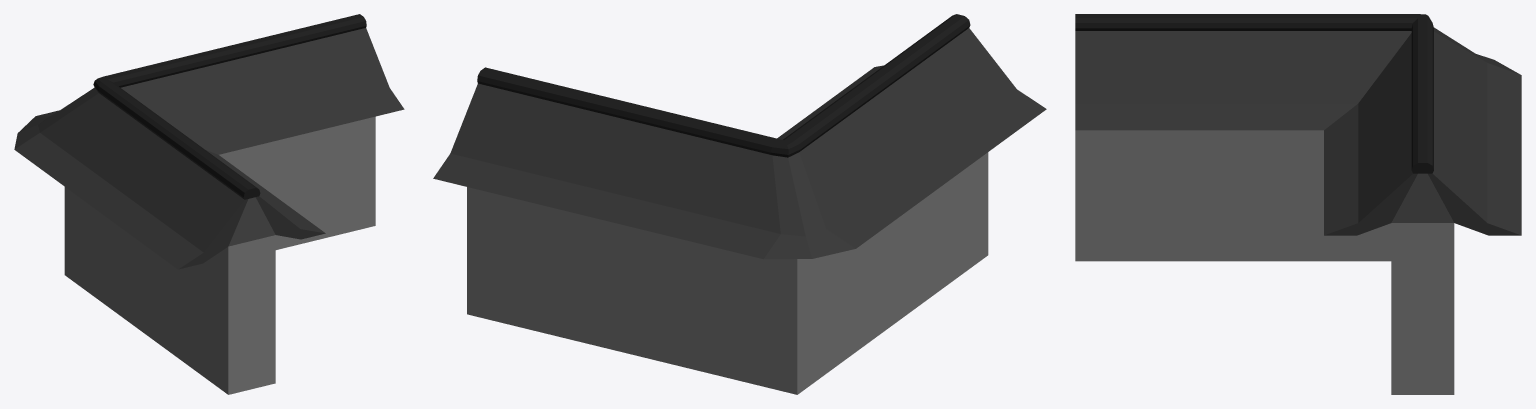
File: TraditionalWallCorner.glb
3 renders of one model, left to right at view 1: azimuth 30°, elevation 25°; view 2: azimuth 150°, elevation 25°; view 3: azimuth 270°, elevation 25°, orthographic. The views are drawn at different scales.
Parts seen in each view (by area): view 1: BuildingA_Wall_Curve; view 2: BuildingA_Wall_Curve; view 3: BuildingA_Wall_Curve.
Part boxes in pixels (x1,y1,x2,y2): BuildingA_Wall_Curve: [14, 14, 404, 394]; BuildingA_Wall_Curve: [433, 14, 1046, 394]; BuildingA_Wall_Curve: [1075, 14, 1521, 394].
Size of the model in its own units: 5.65 by 3.24 by 5.65.
Materials: 1 (1 with a texture image).
